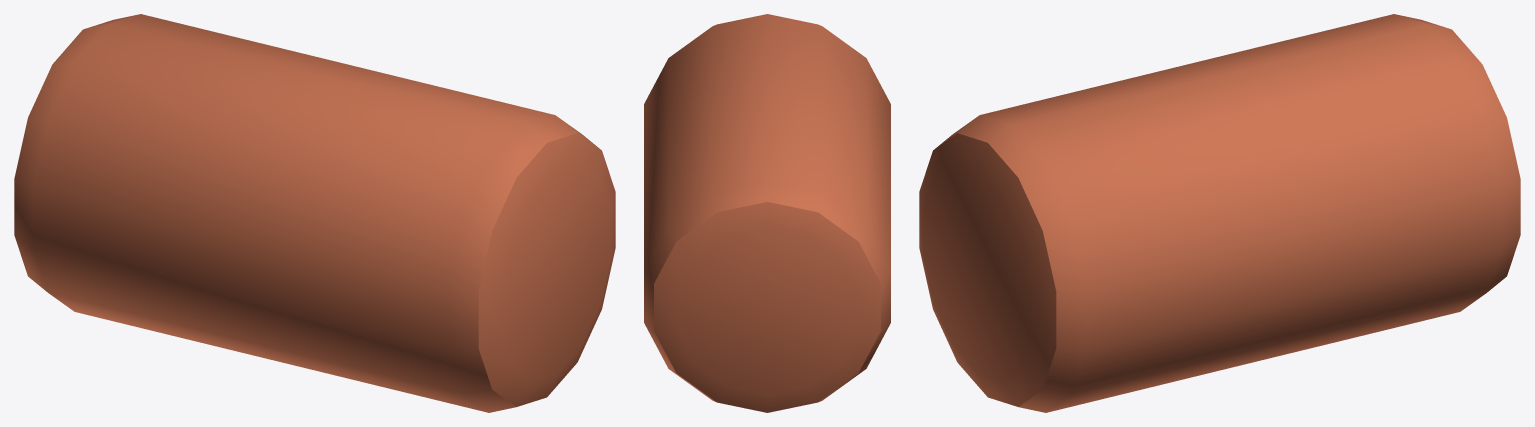
Rendered from litter_can.glb.
3 renders of one model, left to right at view 1: azimuth 30°, elevation 25°; view 2: azimuth 150°, elevation 25°; view 3: azimuth 270°, elevation 25°, orthographic. The views are drawn at different scales.
Parts seen in each view (by area): view 1: food_c; view 2: food_c; view 3: food_c.
Boxes of the visible parts, box(x1,y1,x2,y2) form: food_c: box(14, 14, 615, 412); food_c: box(644, 14, 890, 412); food_c: box(919, 14, 1520, 412).
Size of the model in its own units: 0.0993 by 0.06 by 0.1181.
